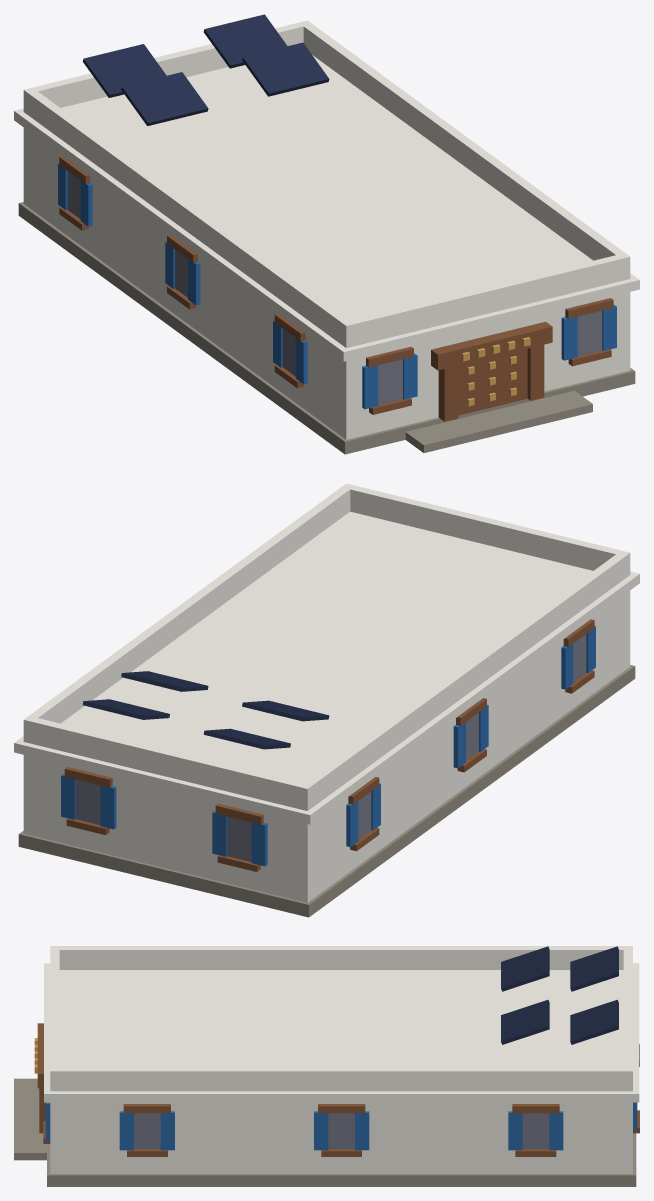
The model's file is house-1x2-1f-swahili-a-solar.glb.
3 views of the same model, one above another, from view 1: azimuth 30°, elevation 25°; view 2: azimuth 150°, elevation 25°; view 3: azimuth 270°, elevation 25° (orthographic). The views are drawn at different scales.
Visible parts, largest first — view 1: house-1x2-1f-swahili-a-solar; view 2: house-1x2-1f-swahili-a-solar; view 3: house-1x2-1f-swahili-a-solar.
Boxes of the visible parts, <box> form: house-1x2-1f-swahili-a-solar: <box>14,14,639,454</box>; house-1x2-1f-swahili-a-solar: <box>14,483,639,917</box>; house-1x2-1f-swahili-a-solar: <box>14,946,639,1186</box>.
Bounding box in the file's own units: 0.984 × 0.4786 × 1.99.
Materials: 1 (1 with a texture image).
